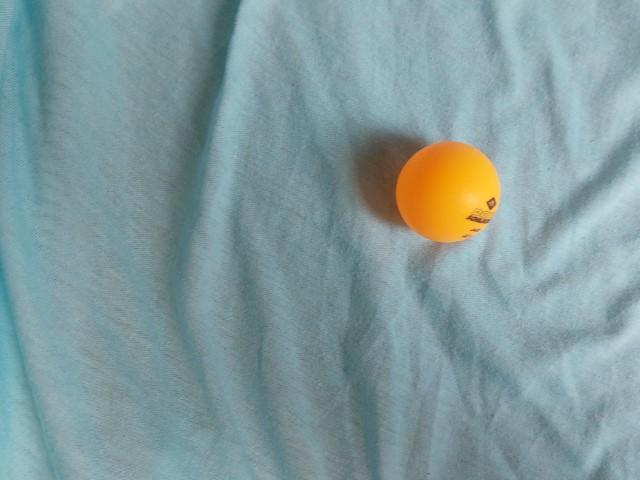oball: (387, 137, 510, 250)
